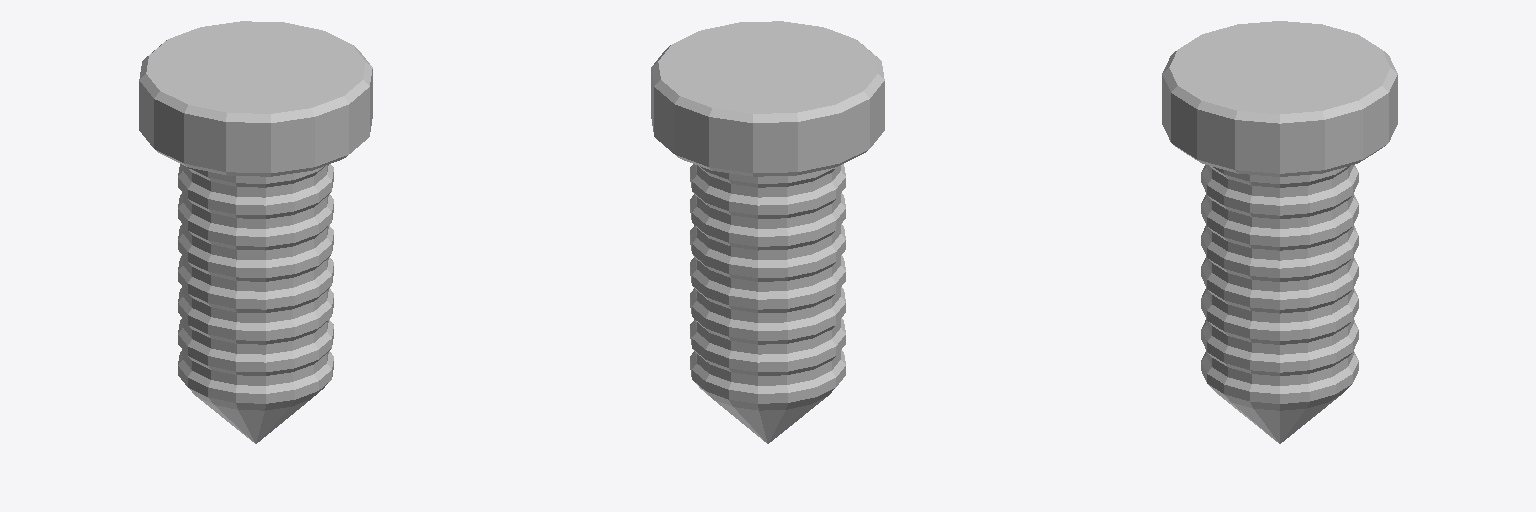
Rendered from robot_parts_screw.obj.
3 views of the same model, side by side, from view 1: azimuth 30°, elevation 25°; view 2: azimuth 150°, elevation 25°; view 3: azimuth 270°, elevation 25° (orthographic).
Visible parts, largest first — view 1: screw_geo; view 2: screw_geo; view 3: screw_geo.
Boxes of the visible parts, box(x1,y1,x2,y2) form: screw_geo: box(139, 21, 372, 443); screw_geo: box(651, 21, 884, 443); screw_geo: box(1162, 21, 1397, 443).
Bounding box in the file's own units: 0.17 × 0.3 × 0.17.